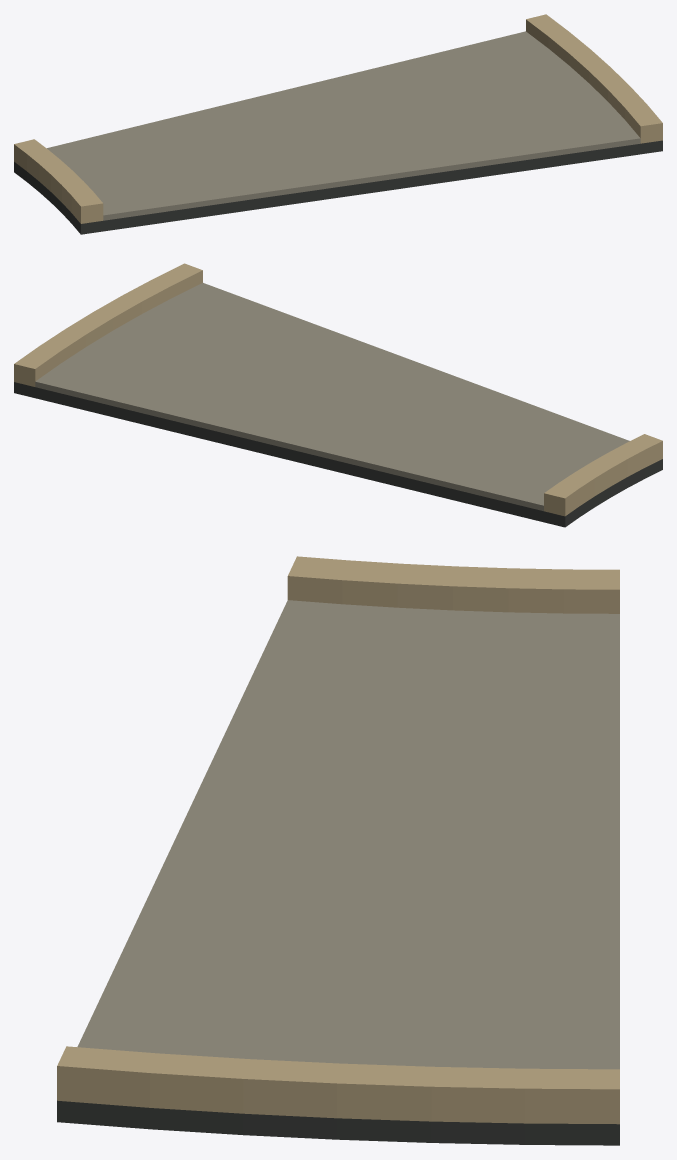
File: road_curve_right_11_25.fbx
The picture shows the model from 3 angles, top to bottom: view 1: azimuth 30°, elevation 25°; view 2: azimuth 150°, elevation 25°; view 3: azimuth 270°, elevation 25°; orthographic projection. The views are drawn at different scales.
Visible parts, largest first — view 1: Concrete curve.001, Curve base.001, Curved curb.003, Curved curb.002; view 2: Concrete curve.001, Curve base.001, Curved curb.003, Curved curb.002; view 3: Concrete curve.001, Curved curb.003, Curved curb.002, Curve base.001.
Boxes of the visible parts, x1,y1,x2,y2 form: Concrete curve.001: [47, 31, 640, 220]; Curve base.001: [14, 140, 662, 234]; Curved curb.003: [526, 14, 662, 143]; Curved curb.002: [14, 139, 103, 223]; Concrete curve.001: [35, 283, 629, 511]; Curve base.001: [14, 382, 662, 527]; Curved curb.003: [14, 263, 202, 386]; Curved curb.002: [544, 434, 662, 516]; Concrete curve.001: [77, 600, 619, 1069]; Curved curb.003: [57, 1046, 619, 1124]; Curved curb.002: [287, 556, 619, 613]; Curve base.001: [57, 1100, 619, 1145].
Size of the model in its own units: 85352 by 38082 by 4200.
